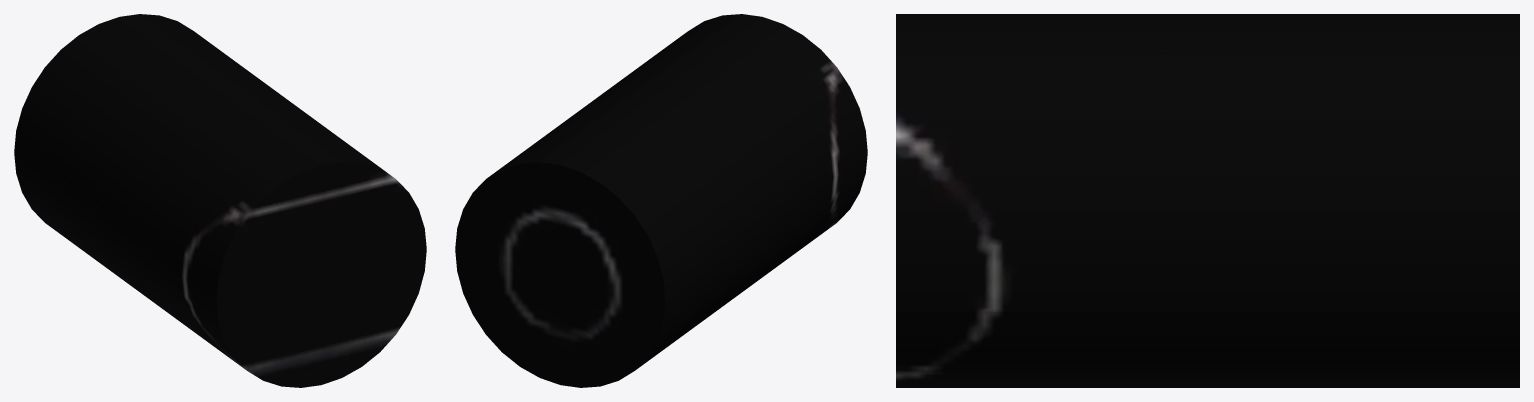
File: pump_rod__handle_hub.glb
3 views of the same model, side by side, from view 1: azimuth 30°, elevation 25°; view 2: azimuth 150°, elevation 25°; view 3: azimuth 270°, elevation 25° (orthographic). The views are drawn at different scales.
Parts seen in each view (by area): view 1: geometry_0; view 2: geometry_0; view 3: geometry_0.
Boxes of the visible parts, x1=… form: geometry_0: x1=14, y1=14, x2=426, y2=387; geometry_0: x1=455, y1=14, x2=867, y2=387; geometry_0: x1=896, y1=14, x2=1519, y2=387.
Size of the model in its own units: 0.03 by 0.03 by 0.05.
Materials: 1 (1 with a texture image).
